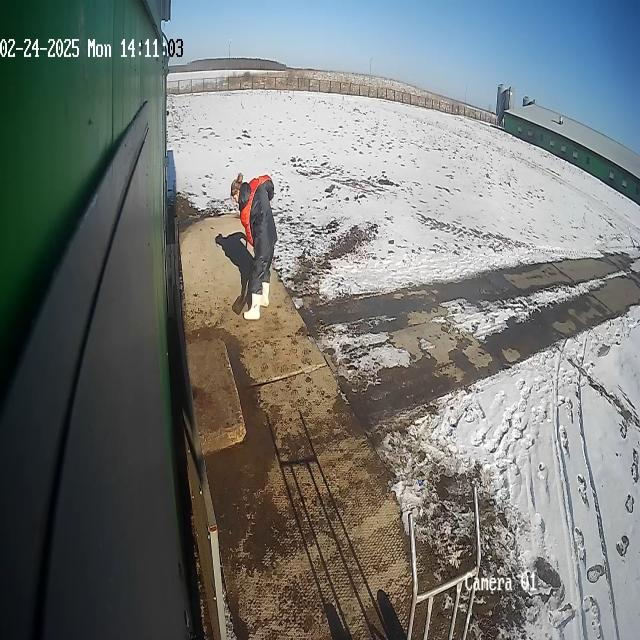Red uniform: (229, 172, 278, 322)
